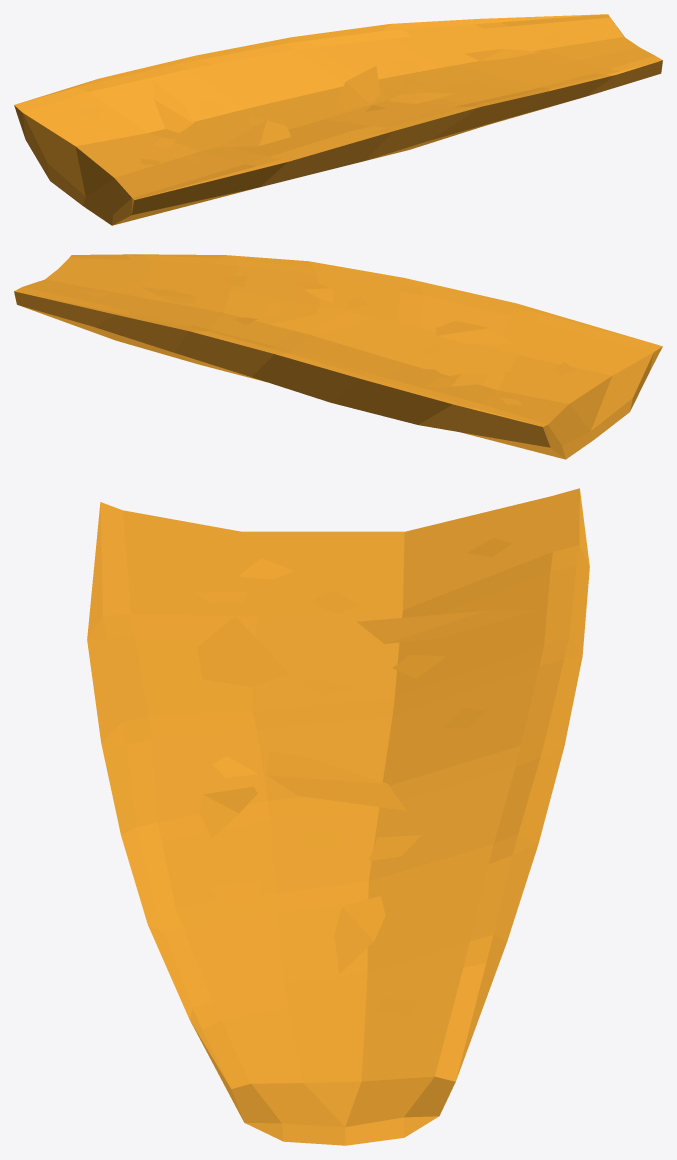
File: SM_Fish_Fillet_Grilled_Fantasy.fbx
3 renders of one model, top to bottom at view 1: azimuth 30°, elevation 25°; view 2: azimuth 150°, elevation 25°; view 3: azimuth 270°, elevation 25°, orthographic. The views are drawn at different scales.
Visible parts, largest first — view 1: fish-fillet-grilled-fantasy; view 2: fish-fillet-grilled-fantasy; view 3: fish-fillet-grilled-fantasy.
Boxes of the visible parts, box(x1,y1,x2,y2) form: fish-fillet-grilled-fantasy: box(14, 14, 662, 225); fish-fillet-grilled-fantasy: box(14, 254, 662, 459); fish-fillet-grilled-fantasy: box(87, 488, 589, 1145).
Size of the model in its own units: 0.3779 by 0.0404 by 0.145.
